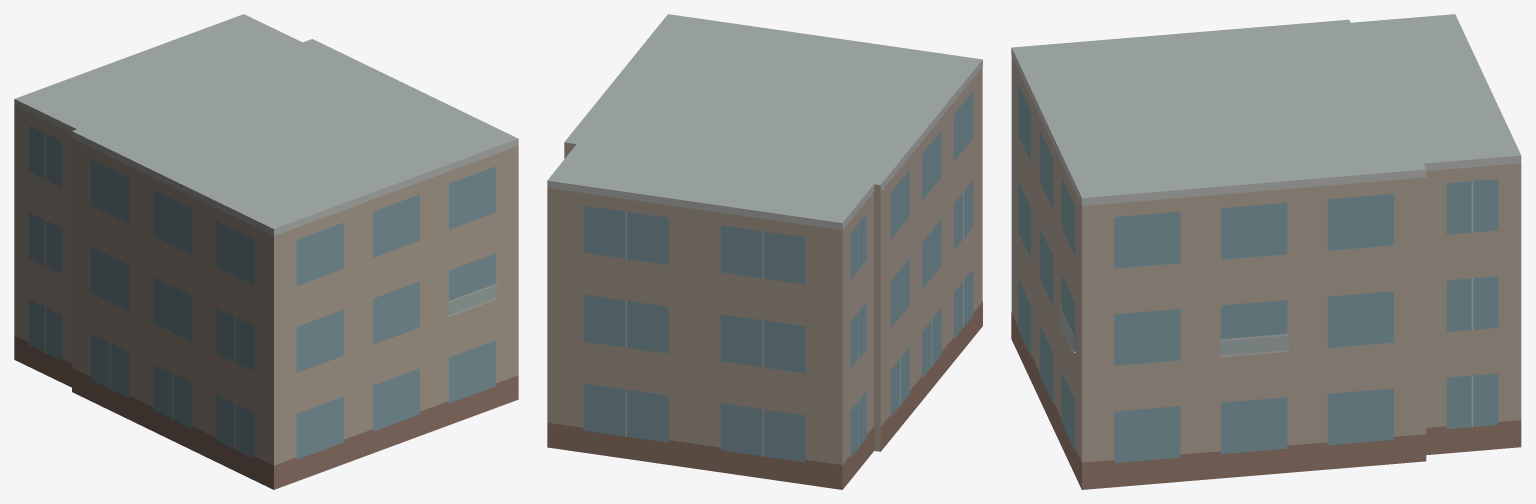
Rendered from survey-upis-32709170.glb.
3 renders of one model, left to right at view 1: azimuth 30°, elevation 25°; view 2: azimuth 150°, elevation 25°; view 3: azimuth 270°, elevation 25°, orthographic. The views are drawn at different scales.
Parts seen in each view (by area): view 1: survey-upis-32709170.tmp; view 2: survey-upis-32709170.tmp; view 3: survey-upis-32709170.tmp.
Boxes of the visible parts, x1,y1,x2,y2 form: survey-upis-32709170.tmp: [14, 14, 518, 489]; survey-upis-32709170.tmp: [547, 14, 982, 489]; survey-upis-32709170.tmp: [1011, 14, 1521, 489].
Size of the model in its own units: 12.4 by 9.15 by 14.51.
